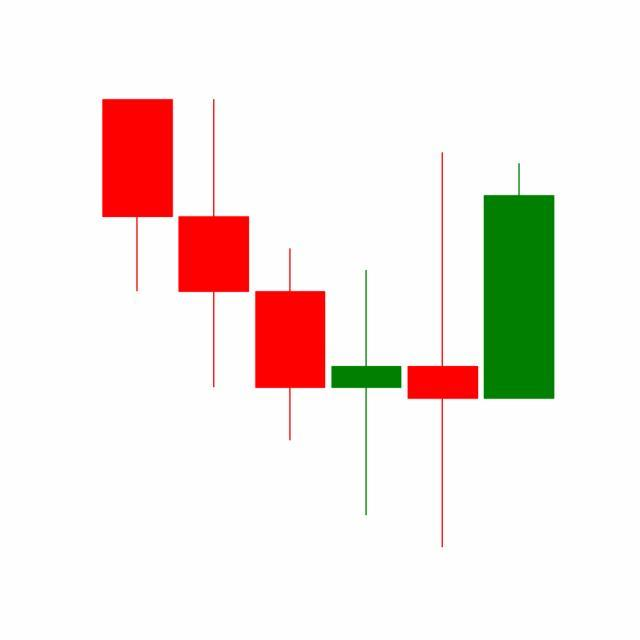Spinning Top: (404, 148, 482, 552)
